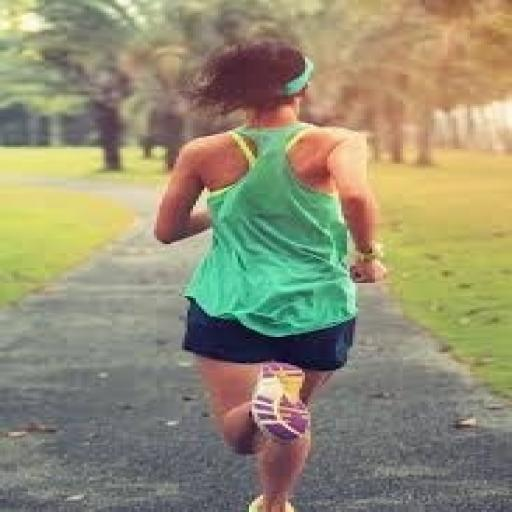running: (151, 36, 392, 510)
